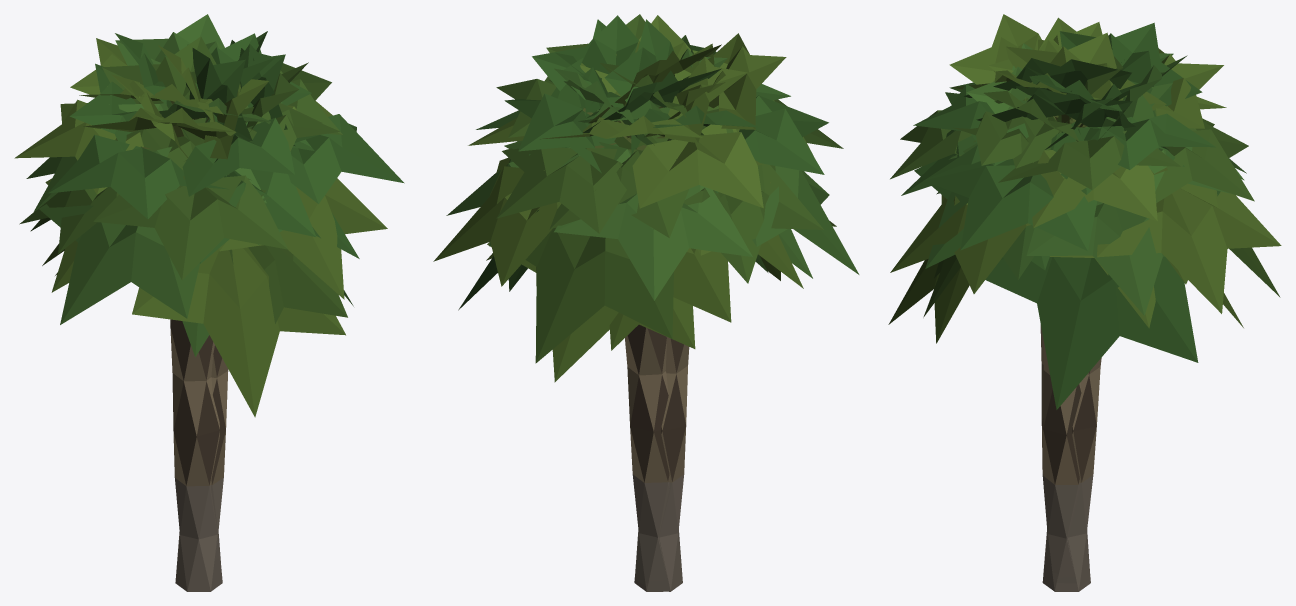
The model's file is sabal.glb.
3 views of the same model, side by side, from view 1: azimuth 30°, elevation 25°; view 2: azimuth 150°, elevation 25°; view 3: azimuth 270°, elevation 25° (orthographic). The views are drawn at different scales.
Visible parts, largest first — view 1: sabal_v0, sabal_v2, sabal_v1; view 2: sabal_v1, sabal_v0, sabal_v2; view 3: sabal_v1, sabal_v2, sabal_v0.
Boxes of the visible parts, box(x1,y1,x2,y2) form: sabal_v0: box(19, 36, 359, 591); sabal_v2: box(55, 33, 404, 564); sabal_v1: box(14, 14, 353, 356); sabal_v1: box(433, 15, 803, 591); sabal_v0: box(486, 15, 859, 591); sabal_v2: box(446, 14, 812, 382); sabal_v1: box(949, 17, 1281, 591); sabal_v2: box(890, 32, 1243, 591); sabal_v0: box(888, 14, 1214, 591).
Bounding box in the file's own units: 5.99 × 9.01 × 5.95.
